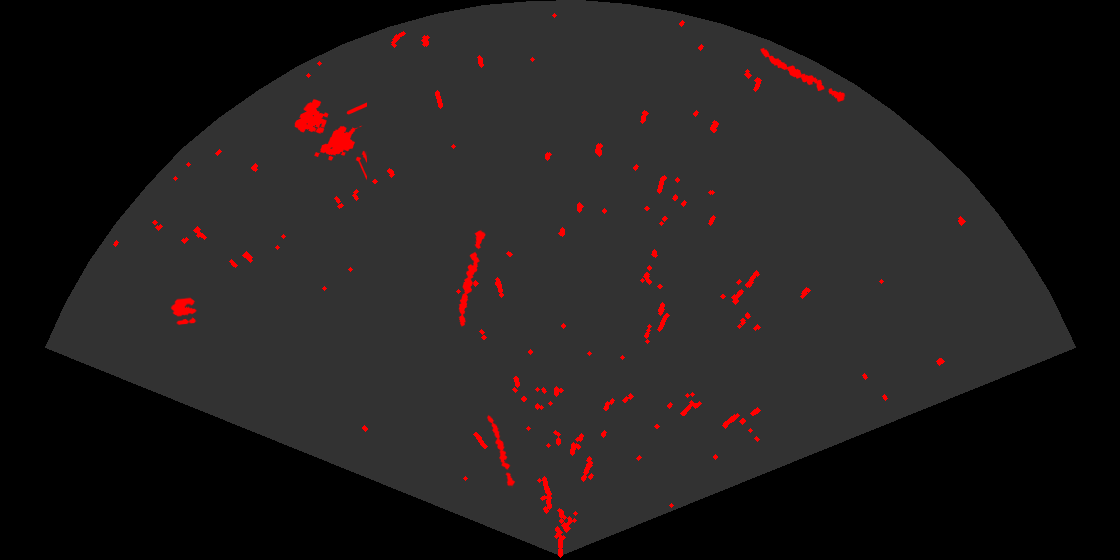ball: (169, 296, 199, 327)
cage: (293, 98, 367, 181)
chain: (759, 46, 847, 104), (457, 228, 487, 328), (485, 413, 517, 488)
